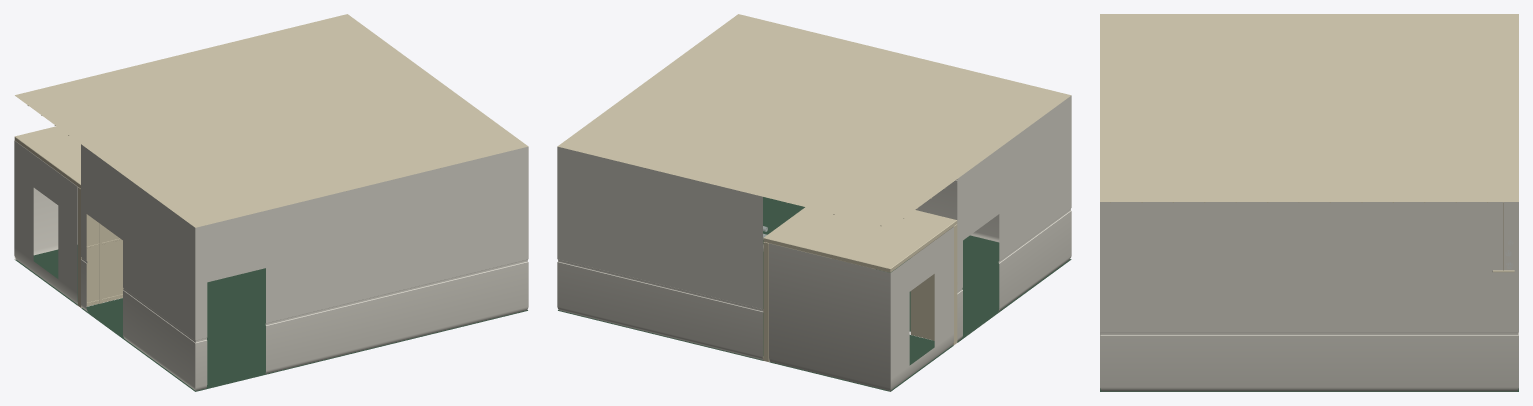
Rendered from shell_nursery.glb.
3 views of the same model, side by side, from view 1: azimuth 30°, elevation 25°; view 2: azimuth 150°, elevation 25°; view 3: azimuth 270°, elevation 25° (orthographic). The views are drawn at different scales.
Parts seen in each view (by area): view 1: nursery_walls, nursery_ceiling, camp_walls, nursery_floor; view 2: nursery_ceiling, nursery_walls, camp_walls, nursery_floor; view 3: nursery_walls, nursery_ceiling, nursery_floor.
Boxes of the visible parts, bbox=[...] form: nursery_walls: bbox=[81, 144, 528, 390]; nursery_ceiling: bbox=[15, 14, 528, 227]; camp_walls: bbox=[14, 126, 123, 307]; nursery_floor: bbox=[81, 268, 527, 391]; nursery_ceiling: bbox=[557, 14, 1070, 227]; nursery_walls: bbox=[557, 95, 1071, 359]; camp_walls: bbox=[762, 207, 957, 391]; nursery_floor: bbox=[558, 197, 1071, 360]; nursery_walls: bbox=[1100, 202, 1518, 391]; nursery_ceiling: bbox=[1100, 14, 1518, 272]; nursery_floor: bbox=[1100, 388, 1518, 391].
Size of the model in its own units: 8.52 by 4 by 8.
